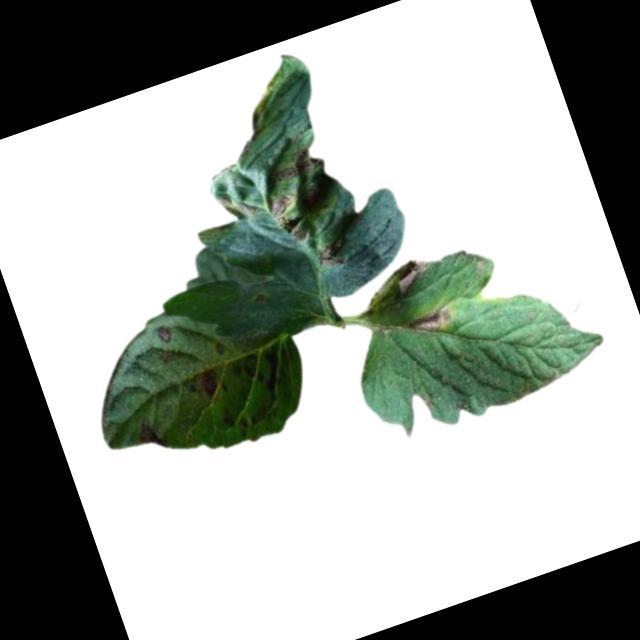Early_blight: (266, 190, 311, 247), (272, 142, 325, 184), (407, 300, 456, 339), (387, 255, 433, 295), (311, 240, 350, 272), (193, 364, 223, 401), (135, 416, 164, 451), (153, 324, 176, 347)
